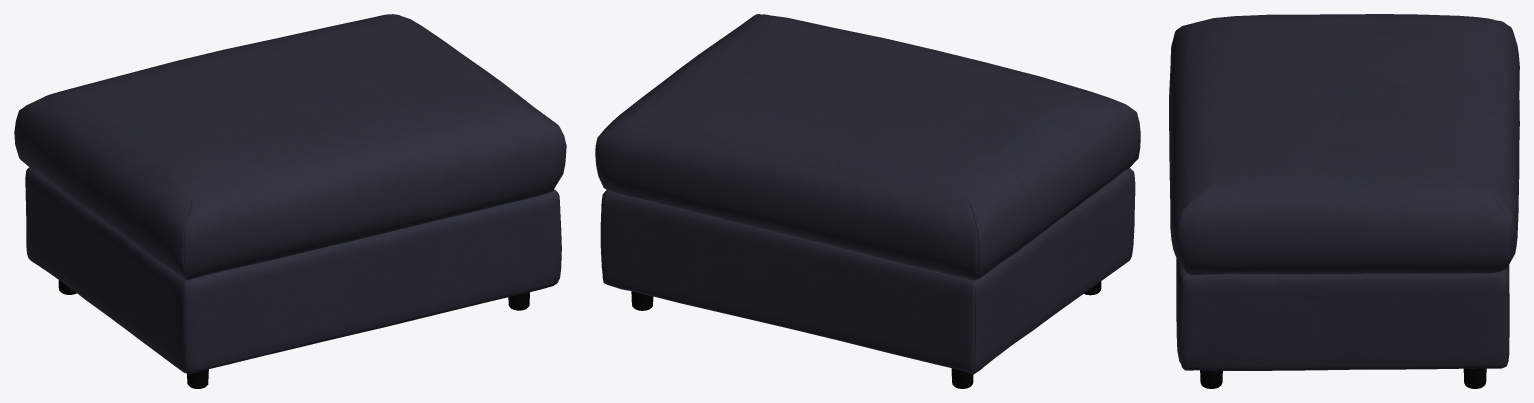
Rendered from stool-23.glb.
3 renders of one model, left to right at view 1: azimuth 30°, elevation 25°; view 2: azimuth 150°, elevation 25°; view 3: azimuth 270°, elevation 25°, orthographic. The views are drawn at different scales.
Visible parts, largest first — view 1: Mesh_0; view 2: Mesh_0; view 3: Mesh_0.
Part boxes in pixels (<box>): Mesh_0: <box>14,14,566,388</box>; Mesh_0: <box>595,14,1140,388</box>; Mesh_0: <box>1169,14,1519,388</box>.
Size of the model in its own units: 0.9868 by 0.4864 by 0.7318.
Materials: 1 (1 with a texture image).
